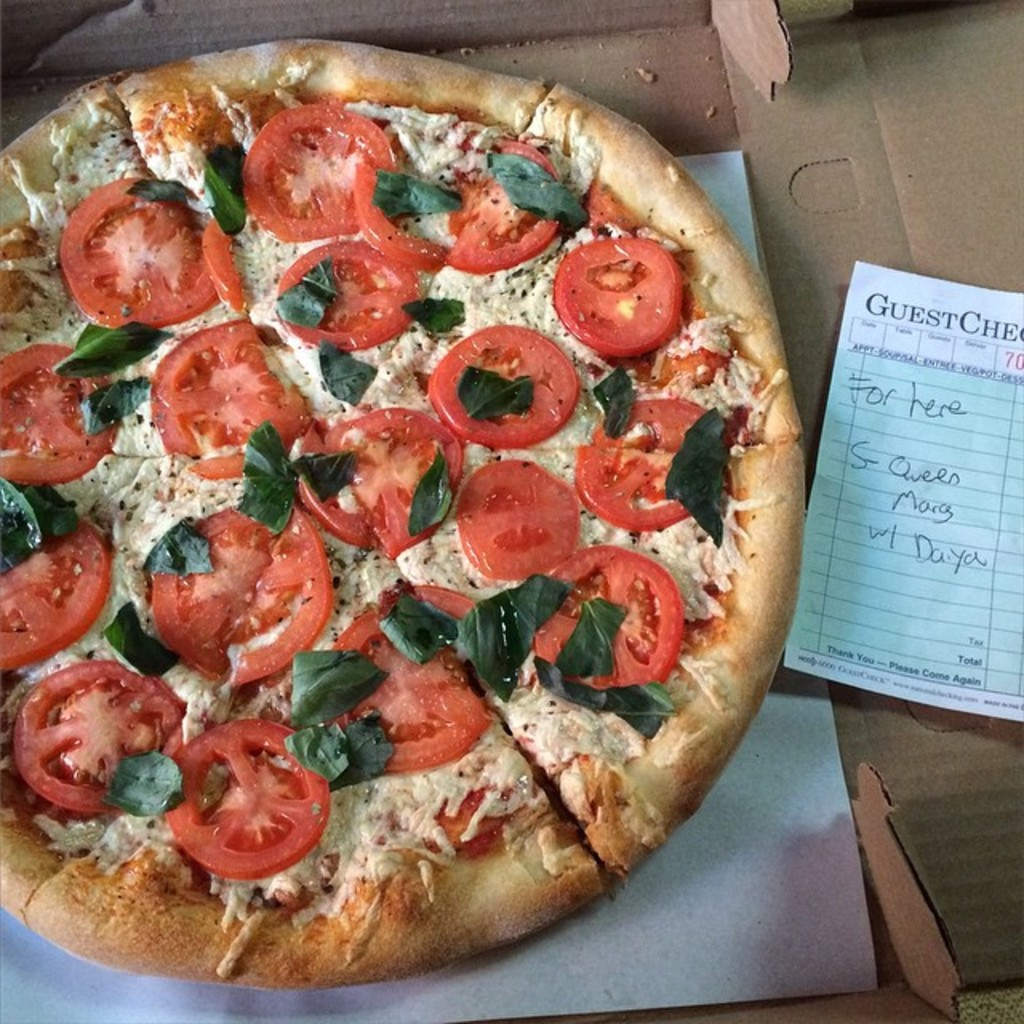Pizza: (19, 592, 608, 976), (380, 436, 806, 859), (124, 32, 539, 419), (0, 441, 353, 875), (361, 92, 796, 427), (0, 70, 310, 428)
